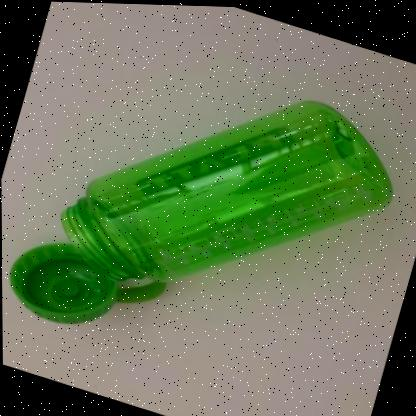Plastic: (10, 98, 392, 323)
